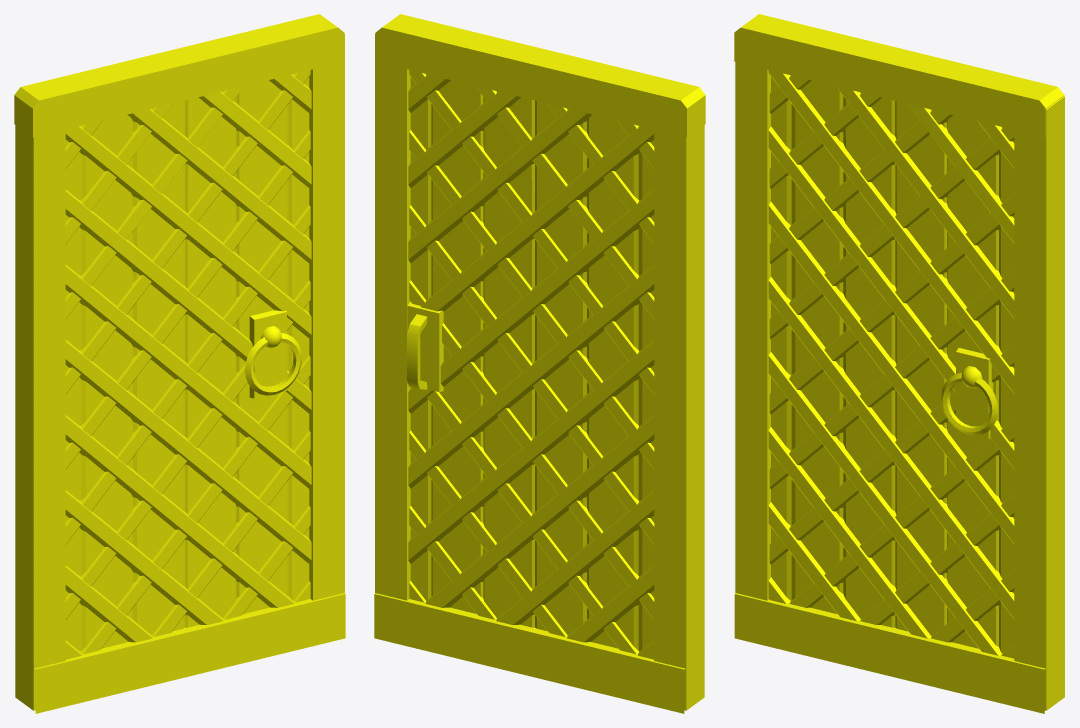
The model's file is door-4-flat.glb.
3 renders of one model, left to right at view 1: azimuth 30°, elevation 25°; view 2: azimuth 150°, elevation 25°; view 3: azimuth 330°, elevation 25°, orthographic.
Parts seen in each view (by area): view 1: Door_4_Flat; view 2: Door_4_Flat; view 3: Door_4_Flat.
Part boxes in pixels (x1,y1,x2,y2): Door_4_Flat: [14, 14, 345, 713]; Door_4_Flat: [374, 14, 705, 713]; Door_4_Flat: [734, 14, 1065, 713].
Bounding box in the file's own units: 1.12 × 2.09 × 0.2093.
Materials: 2 (2 with a texture image).
